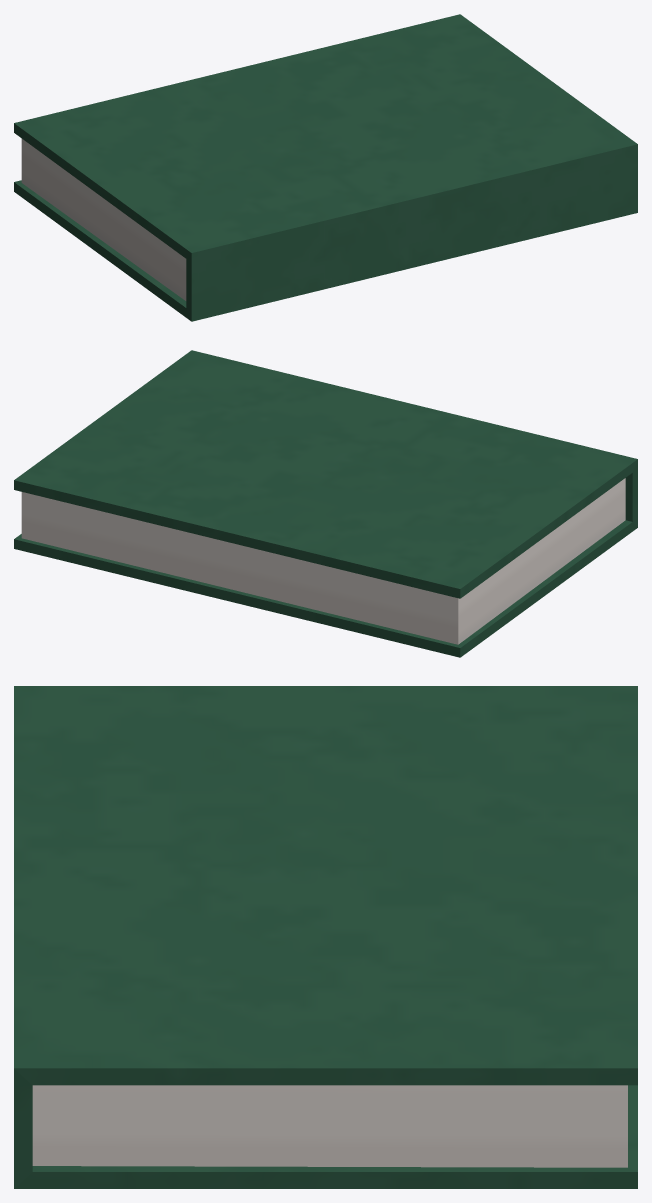
The model's file is Book1.fbx.
3 views of the same model, one above another, from view 1: azimuth 30°, elevation 25°; view 2: azimuth 150°, elevation 25°; view 3: azimuth 270°, elevation 25° (orthographic). The views are drawn at different scales.
Parts seen in each view (by area): view 1: Book1; view 2: Book1; view 3: Book1.
Boxes of the visible parts, bbox=[...] form: Book1: bbox=[14, 14, 637, 321]; Book1: bbox=[14, 350, 637, 657]; Book1: bbox=[14, 686, 637, 1188].
Bounding box in the file's own units: 89.16 × 13.1 × 61.48.
1 material, 1 textured.
